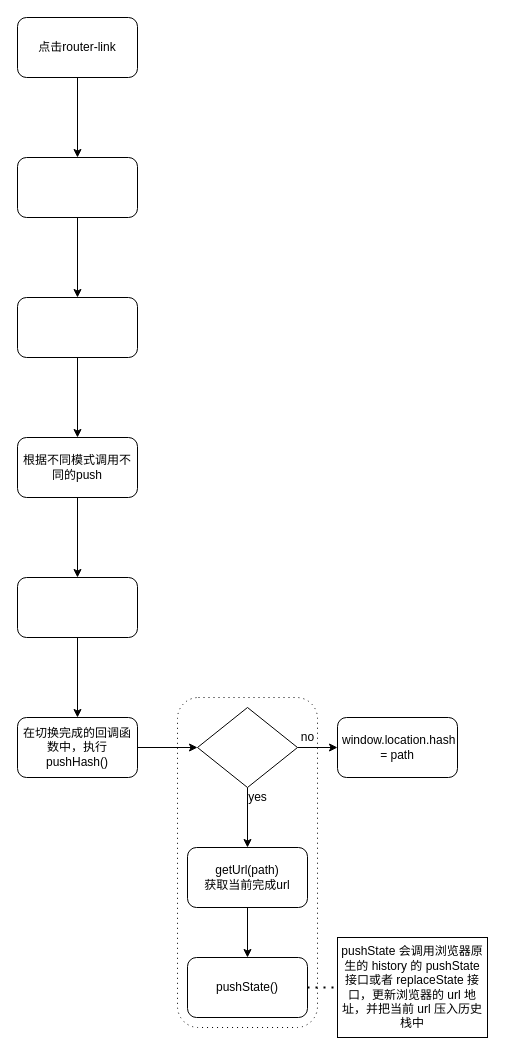
This 505x1055 diagram has some shape labels left out. The shapes that lost their labels are listed below. From the top down, each one's box as (x1, y1, x2, y2) in pixels, then its label:
(16, 156, 138, 218): router.push
(16, 296, 138, 358): this.history.push
(16, 576, 138, 638): this.transitionTo() 做路径切换
(196, 706, 298, 788): 是否支持pushState
